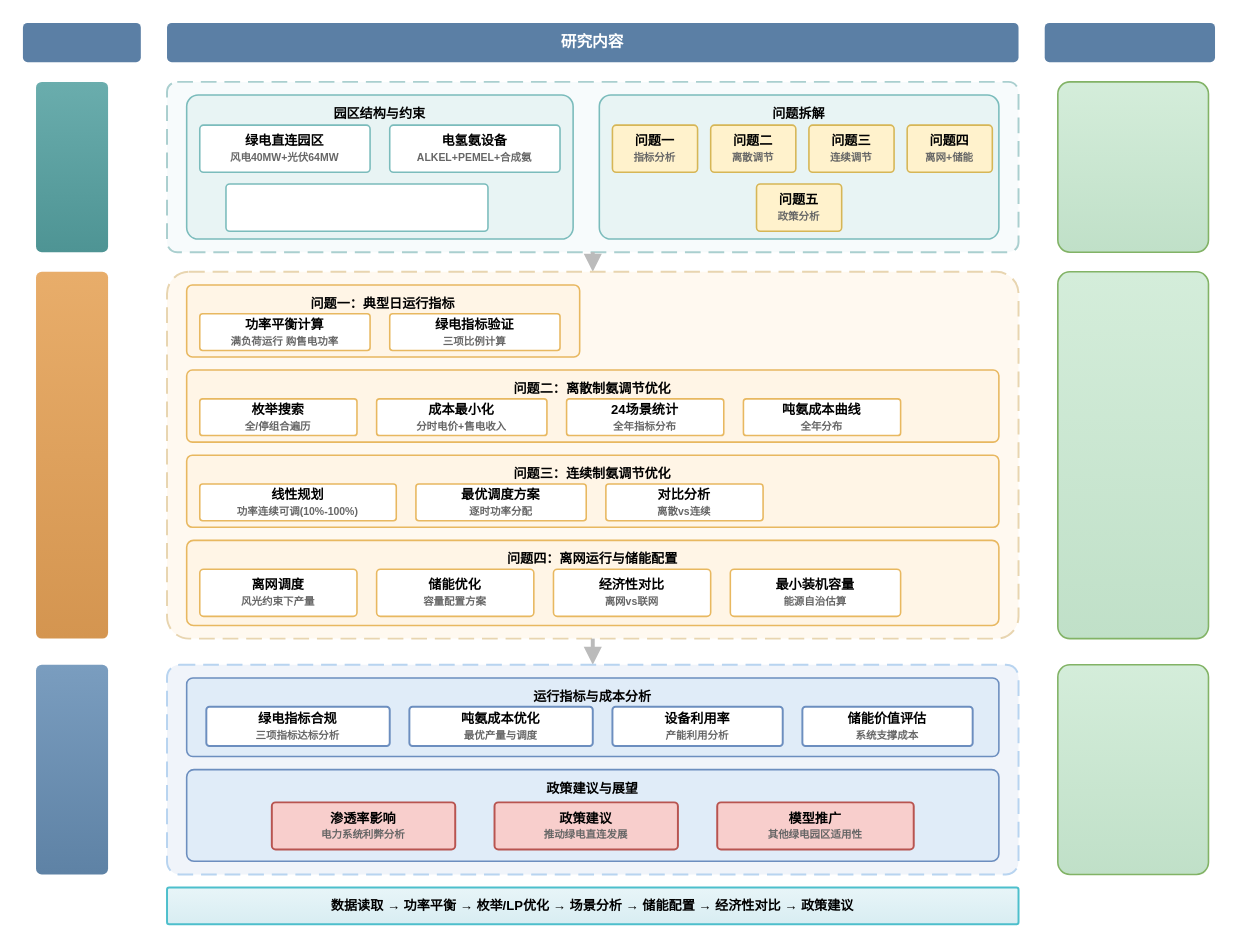
Image size: 1237x947. Some labels were removed from this diagram. The shapes that lost their labels are listed below. From the top down, each one's centre as x and y in pixels, then its label:
At (81,42): "研究框架".
At (1129,42): "研究方法".
At (71,166): "问 题 分 析".
At (1132,166): "功率平衡 能量守恒分析 数据读取 Pandas/Excel".
At (356,207): "绿电指标约束 自用>60% 绿电>30% 上网<20%".
At (71,454): "建 模 求 解".
At (1132,454): "枚举优化 组合搜索 线性规划 SciPy linprog 场景分析 24种风光组合".
At (71,769): "结 果 分 析".
At (1132,769): "灵敏度分析 参数扰动 可视化 Matplotlib 论文撰写 LaTeX".
